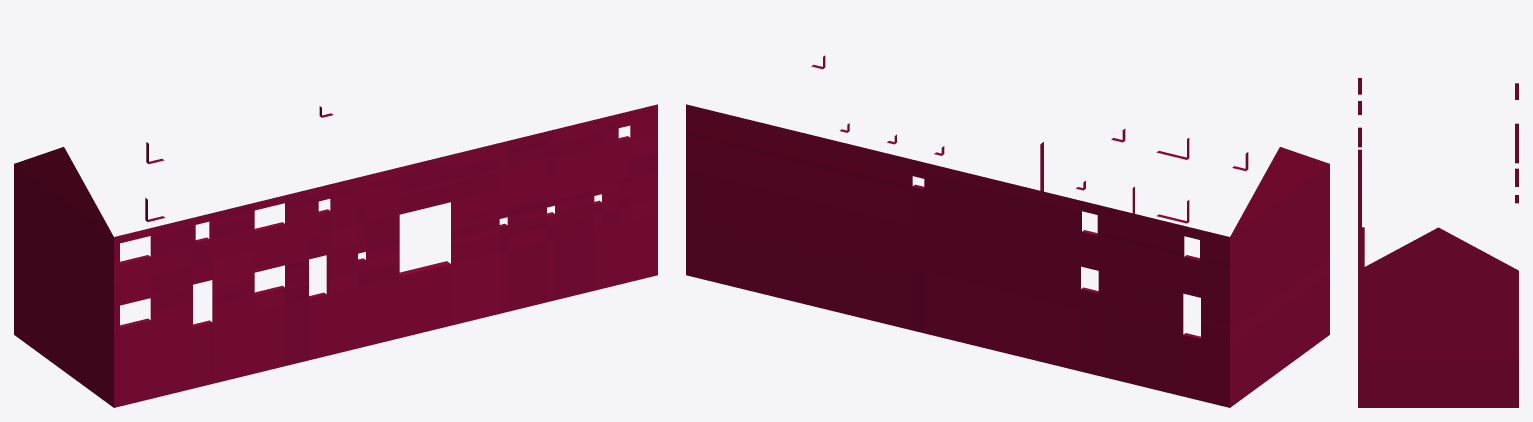
Rendered from SM_Bld_205_Masonry.glb.
3 views of the same model, side by side, from view 1: azimuth 30°, elevation 25°; view 2: azimuth 150°, elevation 25°; view 3: azimuth 270°, elevation 25° (orthographic). The views are drawn at different scales.
Visible parts, largest first — view 1: SM_Bld_205_Masonry; view 2: SM_Bld_205_Masonry; view 3: SM_Bld_205_Masonry.
Part boxes in pixels (box(x1,y1,x2,y2)): SM_Bld_205_Masonry: box(14, 104, 657, 407); SM_Bld_205_Masonry: box(686, 55, 1329, 407); SM_Bld_205_Masonry: box(1358, 78, 1518, 407).
Bounding box in the file's own units: 27.64 × 10.91 × 8.8.
